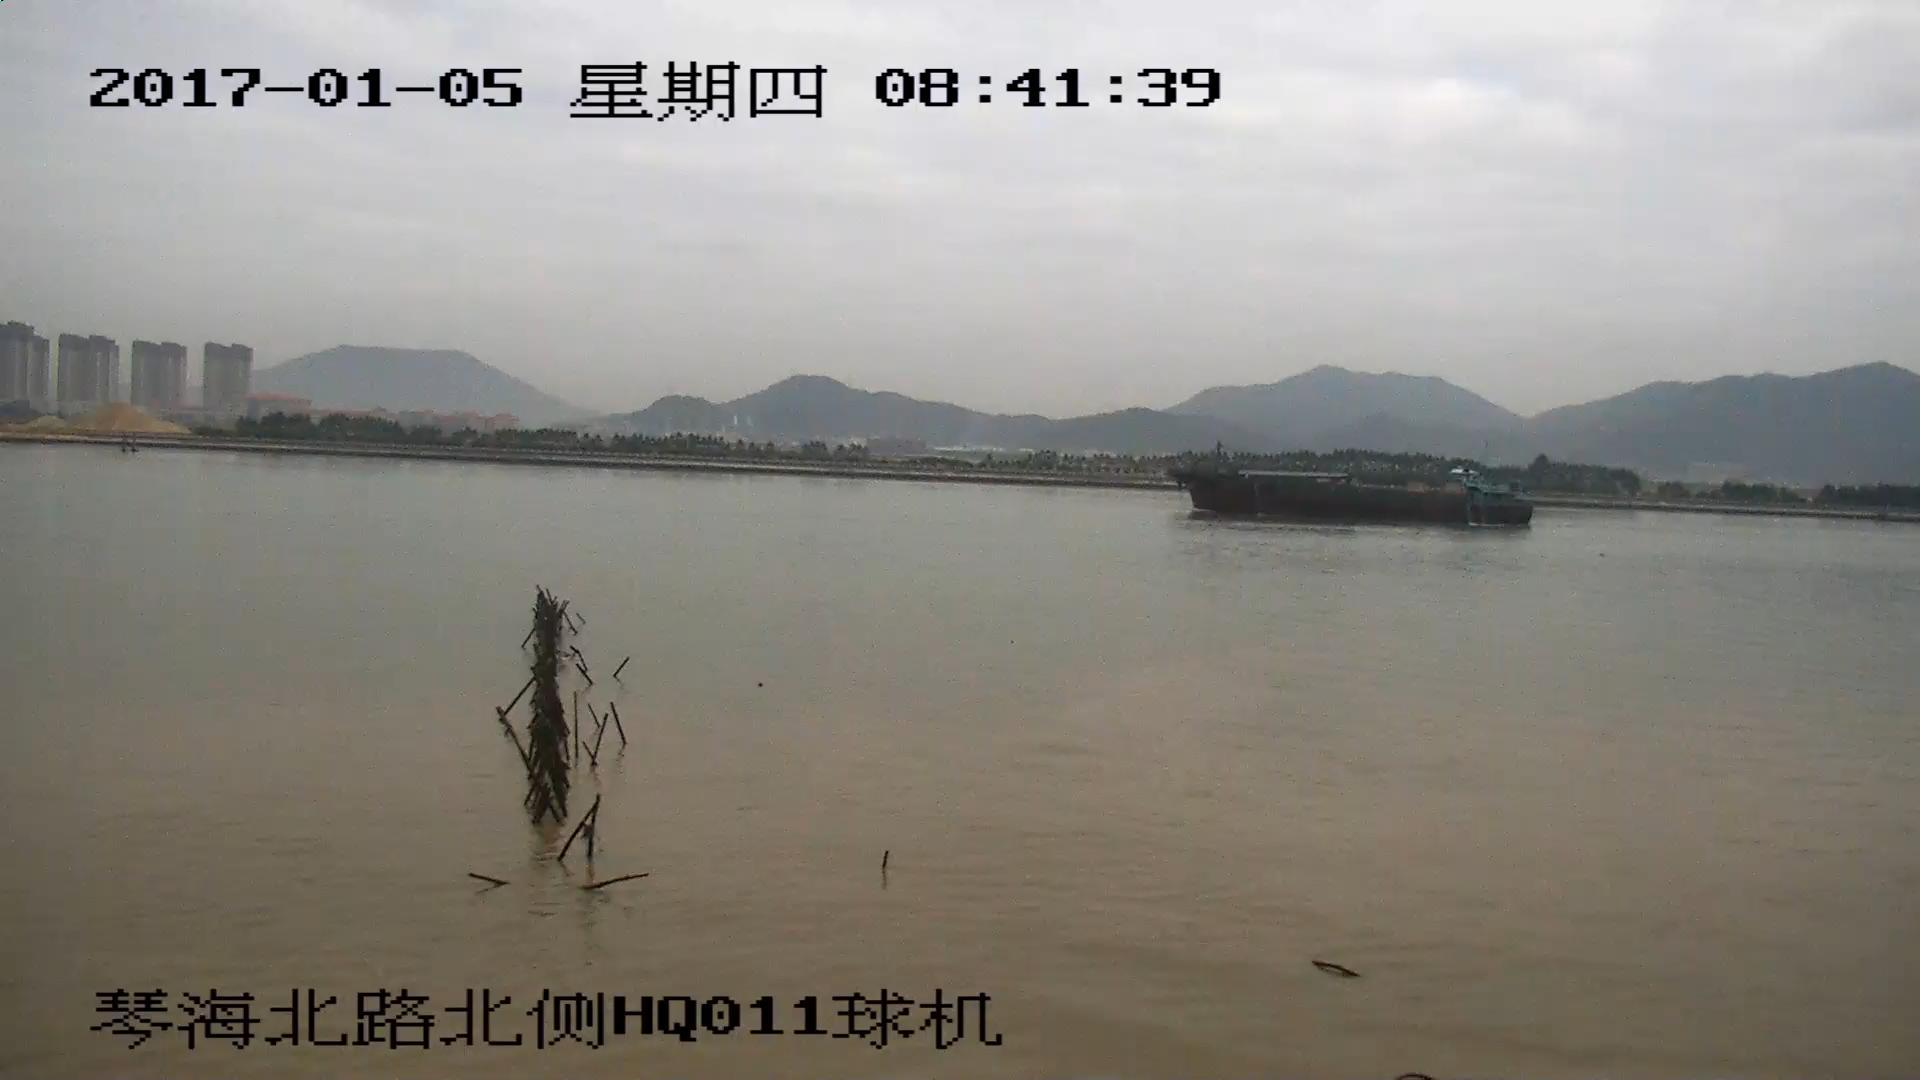Ship: (1176, 447, 1534, 527)
